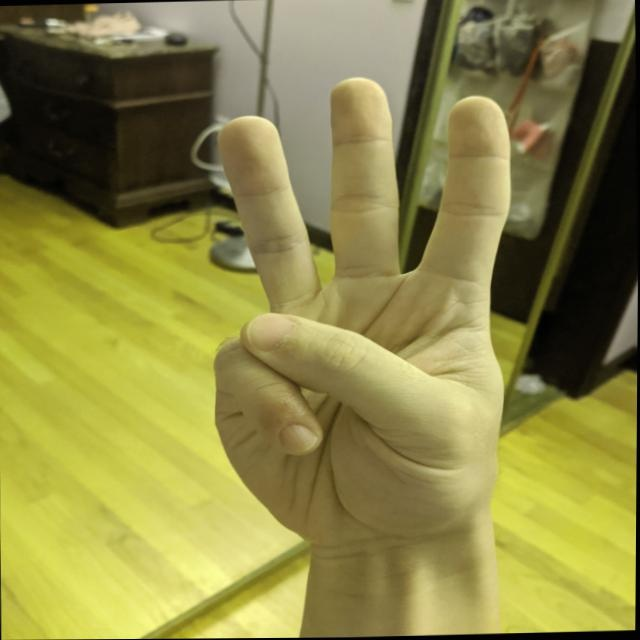W: (196, 68, 528, 559)
